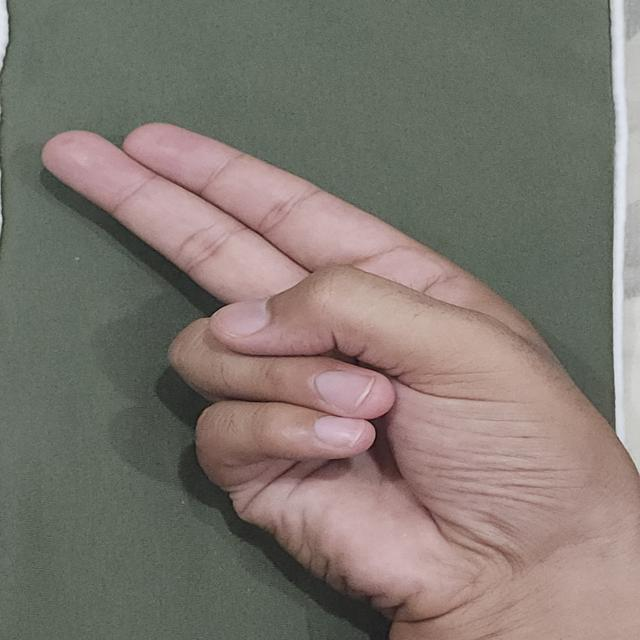ث: (32, 93, 640, 640)
